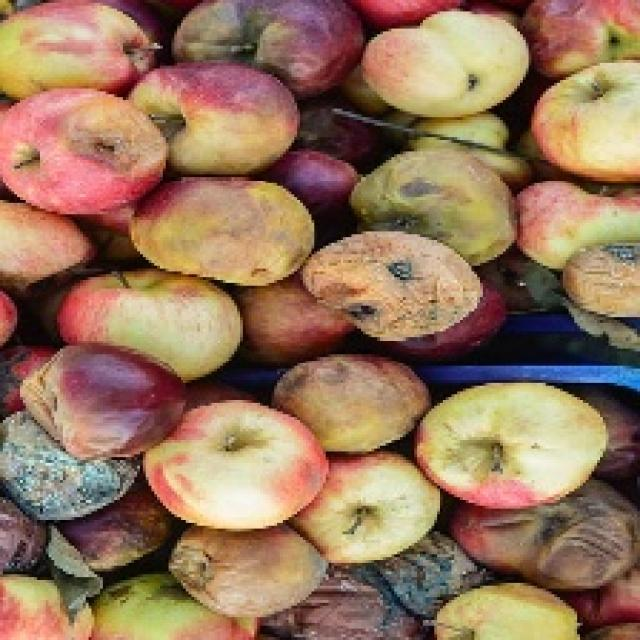rotten_apple: (0, 91, 168, 206), (310, 233, 478, 332), (456, 498, 636, 586), (148, 178, 311, 274), (356, 150, 514, 238), (24, 348, 152, 456), (172, 527, 327, 612), (276, 362, 418, 441), (567, 244, 640, 322)
